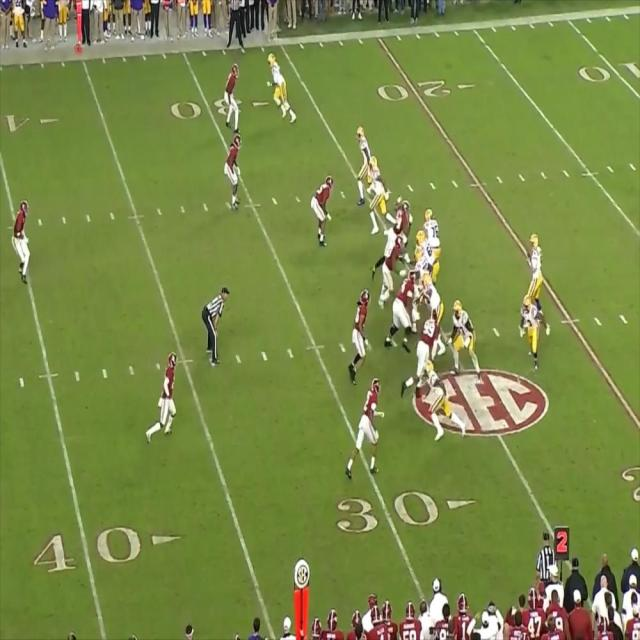db: (160, 353, 175, 441), (227, 133, 243, 210), (14, 199, 29, 280), (224, 60, 241, 124)
lb: (350, 291, 369, 380), (314, 175, 336, 242), (380, 234, 402, 301)
qb: (530, 232, 542, 284)
skill: (423, 359, 465, 439), (356, 380, 379, 473), (270, 54, 294, 118), (370, 156, 386, 236), (525, 295, 541, 369), (356, 126, 372, 195)
